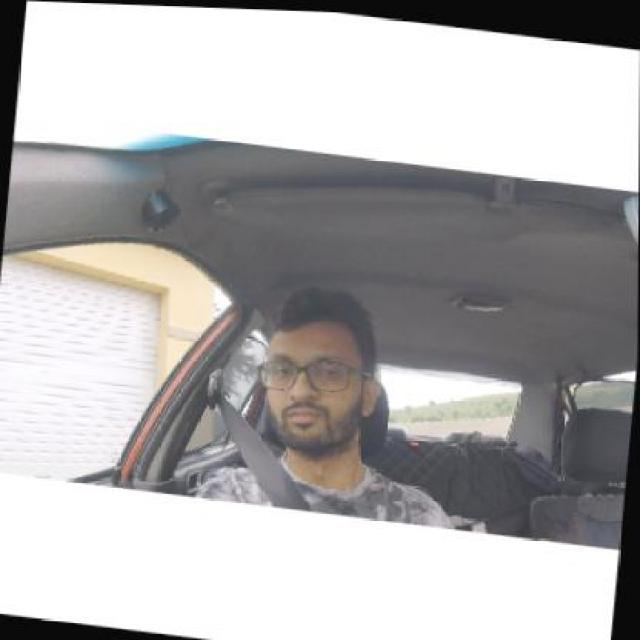person: (252, 278, 394, 464)
